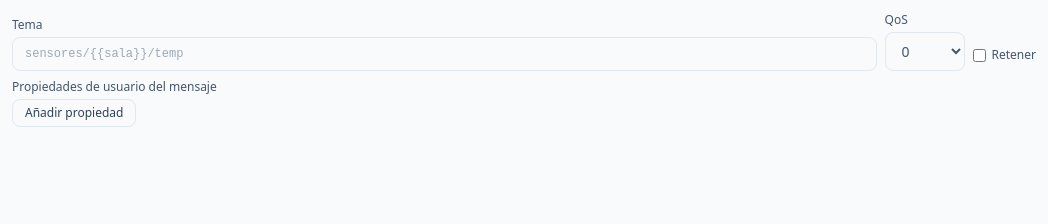
los campos de publicar › en 5.0 hay propiedades: se añaden, se editan una a una y se quitan
Click the button "Añadir propiedad".
click(74, 113)  # box [12,99,136,127]
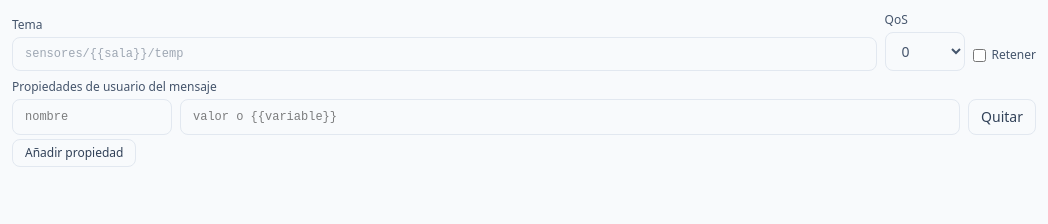
Click the button "Añadir propiedad".
click(74, 153)  # box [12,139,136,167]
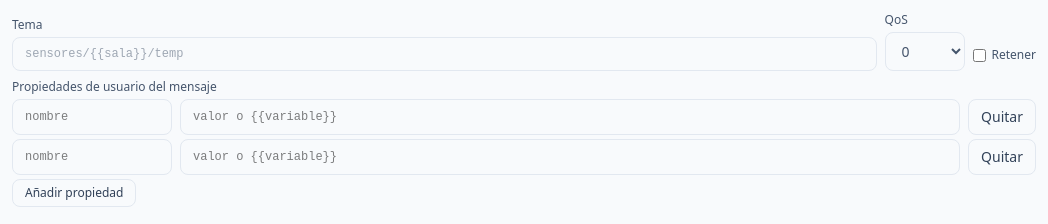
Type "b" into the field named "Nombre de la propiedad 2".
click(92, 157); type("b")  # box [12,139,172,175]
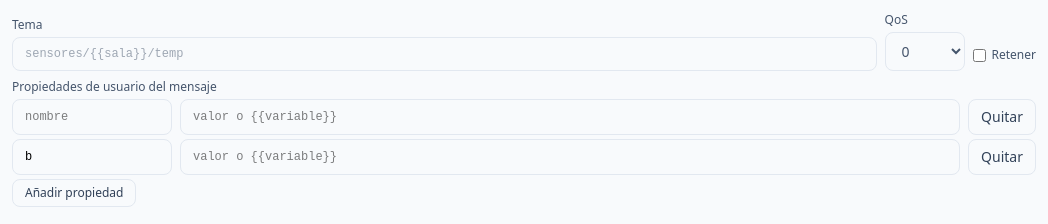
Type "2" into the field named "Valor de la propiedad 2".
click(570, 157); type("2")  # box [180,139,960,175]
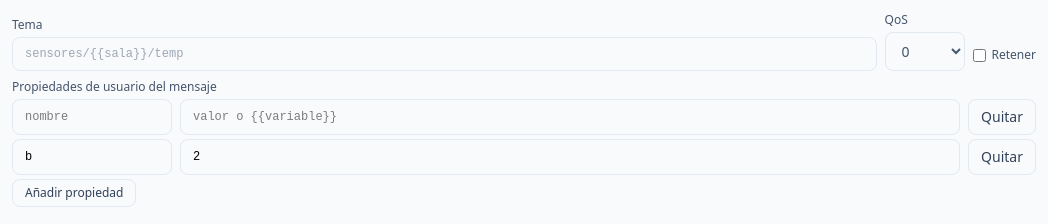
Expected: the field named "Nombre de la propiedad 1" is empty, [12,99,172,135]
Click the 1st button "Quitar".
click(1002, 117)  # box [968,99,1036,135]
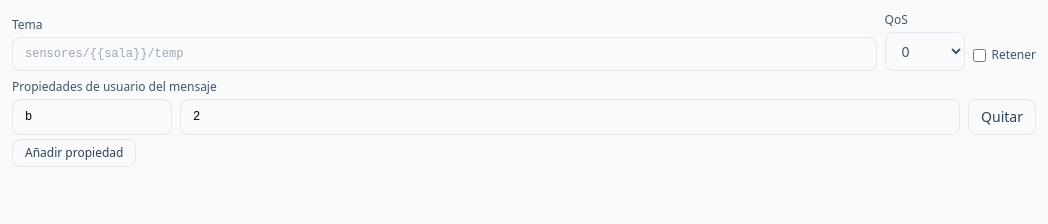
Expected: the field named "Nombre de la propiedad 1" holds "b", [12,99,172,135]
